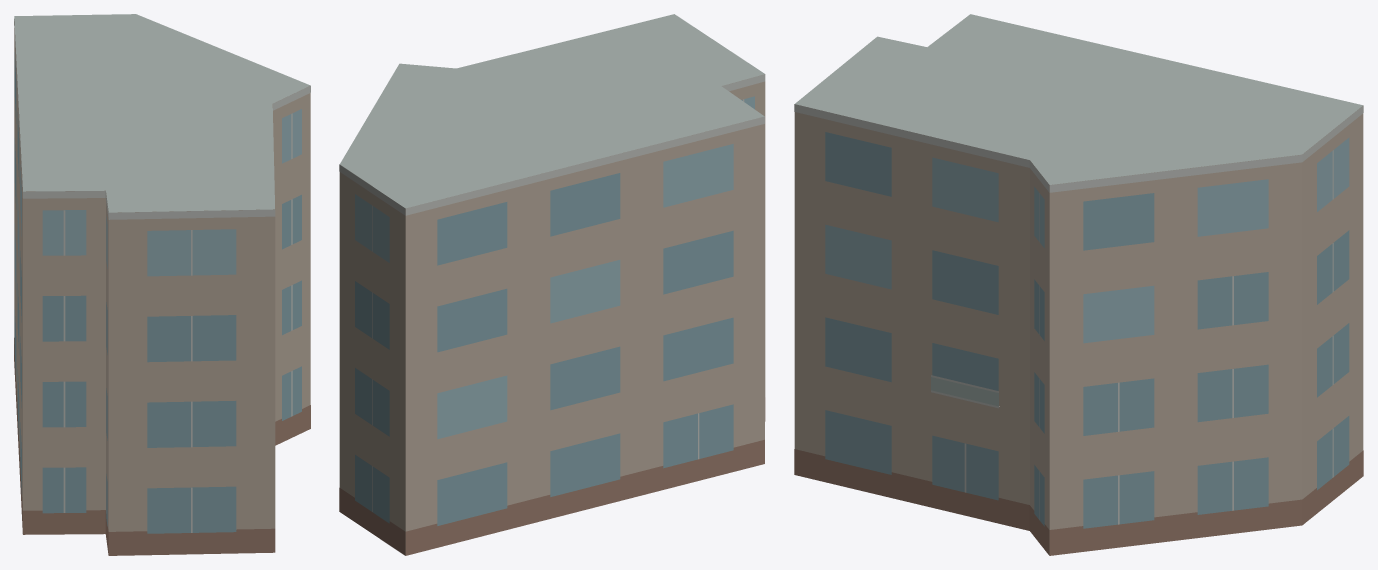
Rendered from survey-upis-32982539.glb.
The picture shows the model from 3 angles, left to right: view 1: azimuth 30°, elevation 25°; view 2: azimuth 150°, elevation 25°; view 3: azimuth 270°, elevation 25°; orthographic projection. The views are drawn at different scales.
Parts seen in each view (by area): view 1: survey-upis-32982539.tmp; view 2: survey-upis-32982539.tmp; view 3: survey-upis-32982539.tmp.
Part boxes in pixels (x1,y1,x2,y2): survey-upis-32982539.tmp: (14, 14, 310, 555); survey-upis-32982539.tmp: (339, 14, 765, 555); survey-upis-32982539.tmp: (794, 14, 1363, 555).
Bounding box in the file's own units: 11.48 × 11.6 × 16.14.
